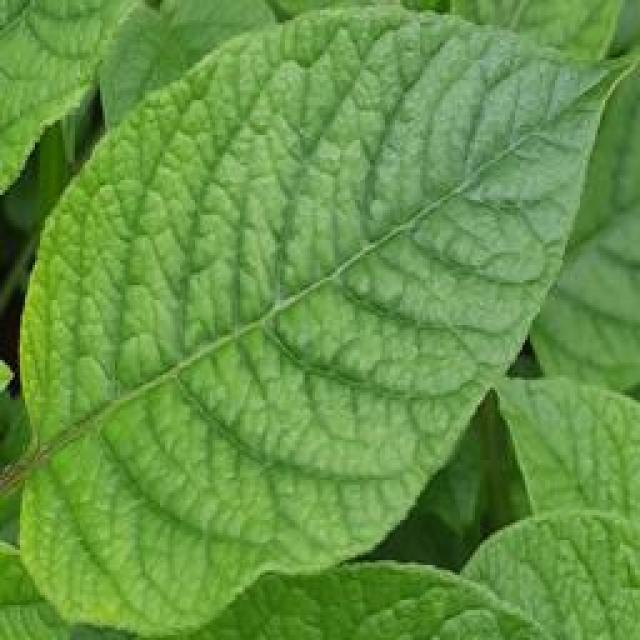healthy: (10, 0, 635, 638)
